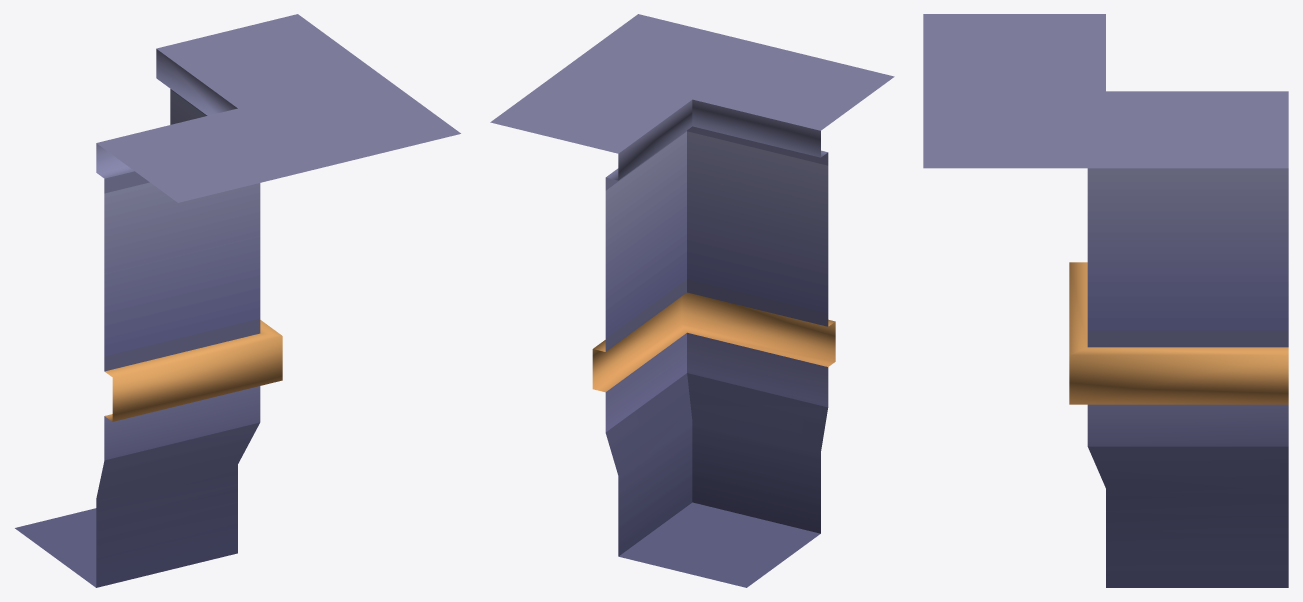
The model's file is structure-corner-inner.glb.
The picture shows the model from 3 angles, left to right: view 1: azimuth 30°, elevation 25°; view 2: azimuth 150°, elevation 25°; view 3: azimuth 270°, elevation 25°; orthographic projection. The views are drawn at different scales.
Visible parts, largest first — view 1: structure-corner-inner; view 2: structure-corner-inner; view 3: structure-corner-inner.
Part boxes in pixels (left/top/right/bottom): structure-corner-inner: left=15, top=14, right=460, bottom=587; structure-corner-inner: left=490, top=14, right=894, bottom=587; structure-corner-inner: left=923, top=14, right=1288, bottom=587.
Size of the model in its own units: 2 by 3 by 2.
1 material, 1 textured.
